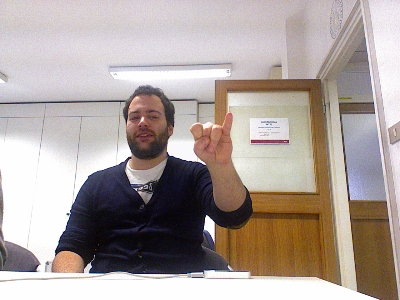小指: (188, 111, 235, 164)
